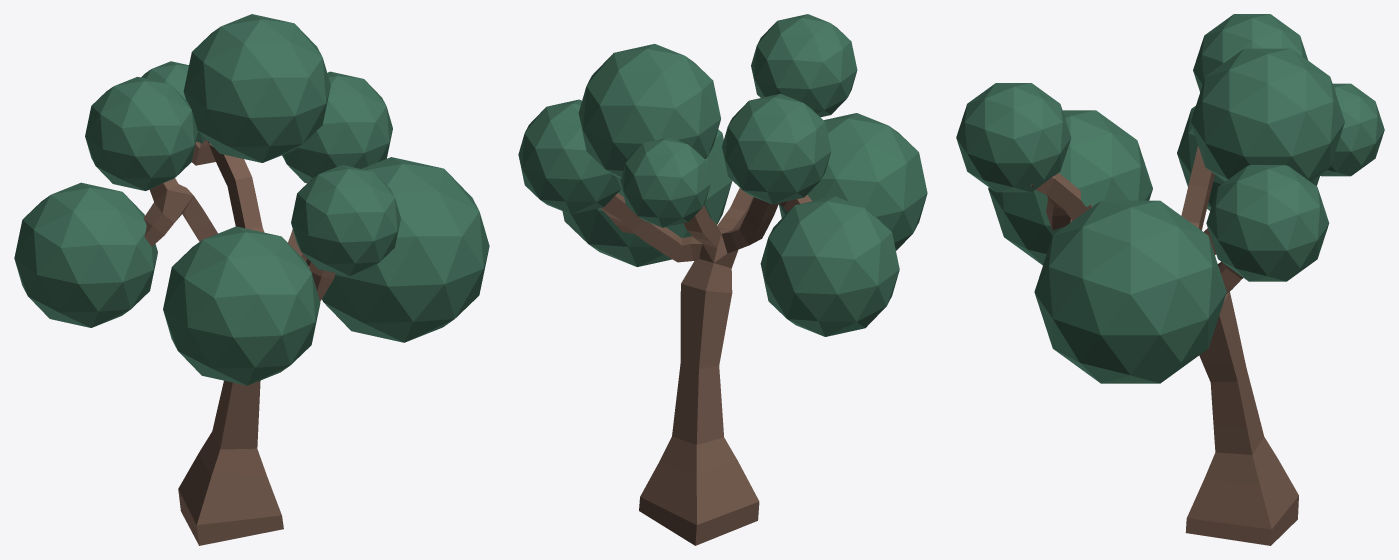
Rendered from Arvore2.fbx.
3 views of the same model, side by side, from view 1: azimuth 30°, elevation 25°; view 2: azimuth 150°, elevation 25°; view 3: azimuth 270°, elevation 25° (orthographic). The views are drawn at different scales.
Parts seen in each view (by area): view 1: folha9; view 2: folha9; view 3: folha9.
Part boxes in pixels (x1,y1,x2,y2): folha9: (14, 14, 489, 545); folha9: (518, 14, 927, 545); folha9: (956, 14, 1384, 545).
Bounding box in the file's own units: 612 × 730 × 569.
